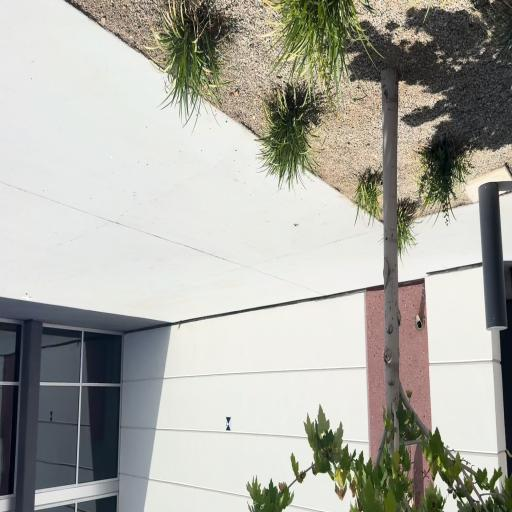target7: (225, 416, 232, 431)
